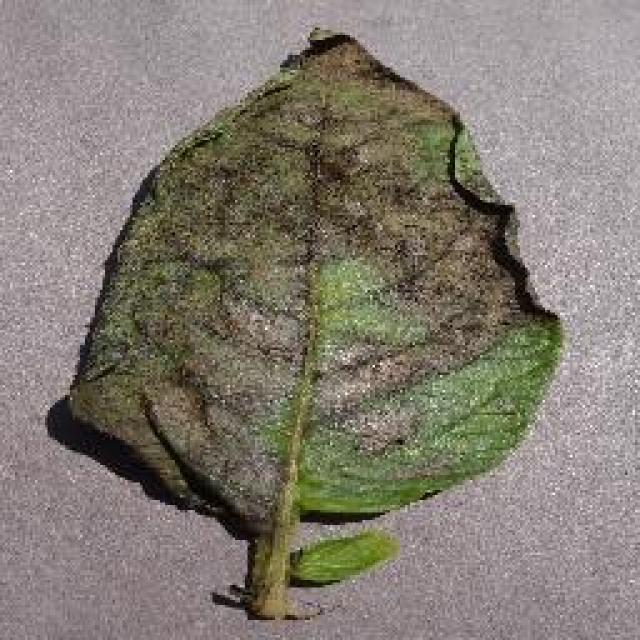green waste: (40, 12, 595, 637)
